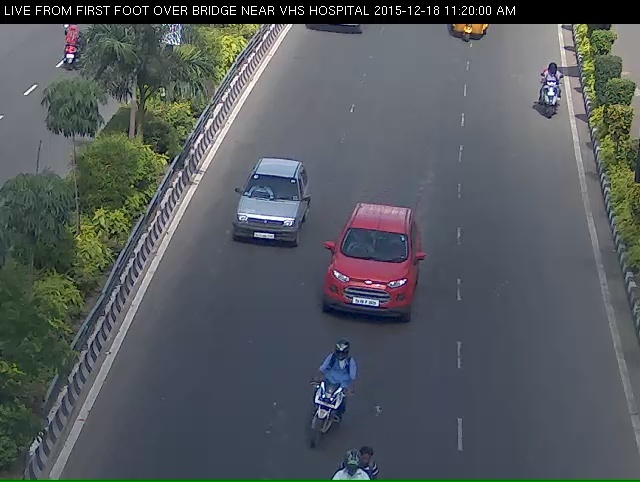Car: (314, 217, 421, 351), (215, 165, 298, 265), (445, 21, 487, 46)
Person: (282, 378, 334, 469), (528, 64, 571, 122)
